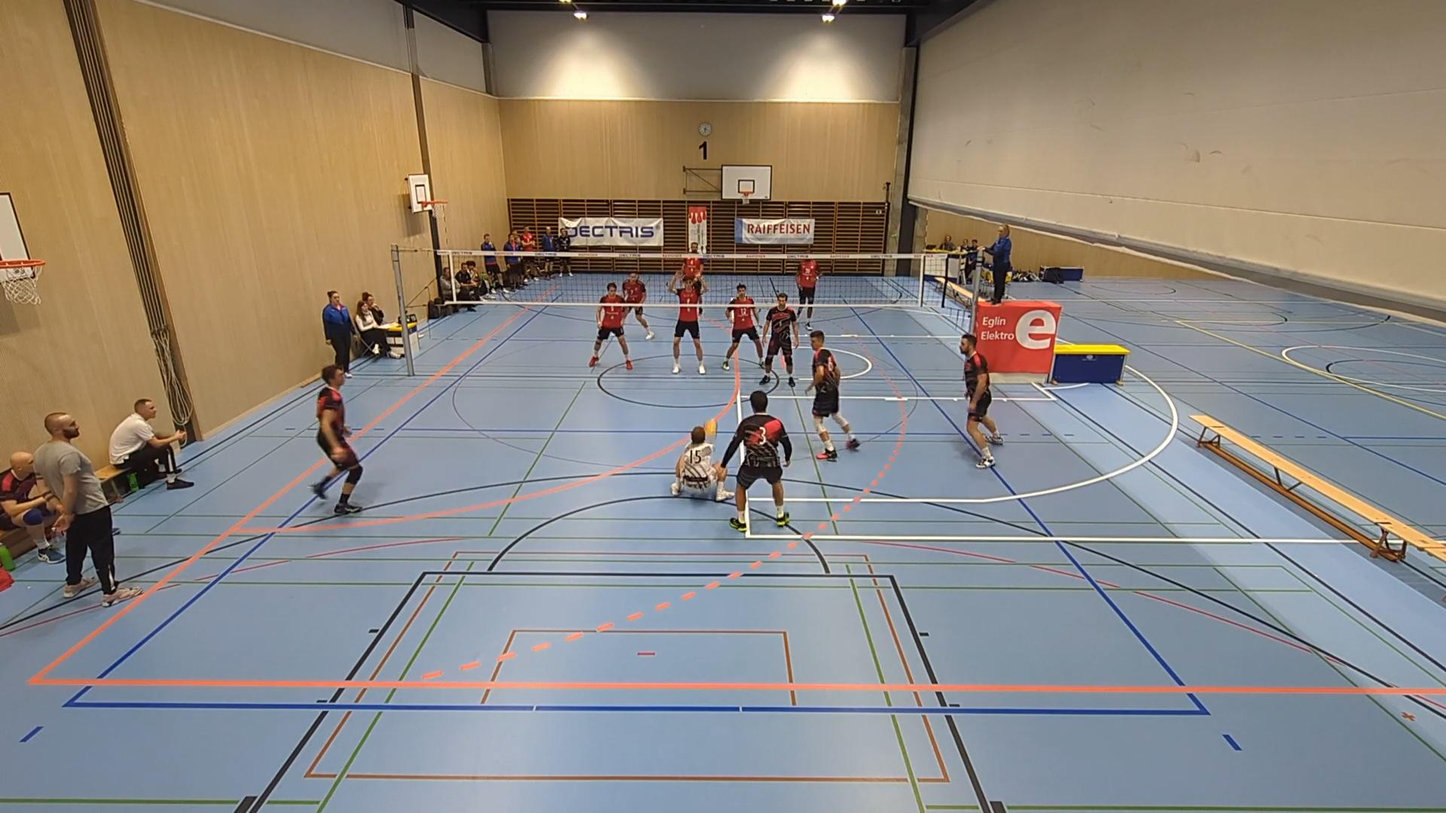ricezione: (673, 423, 741, 502)
